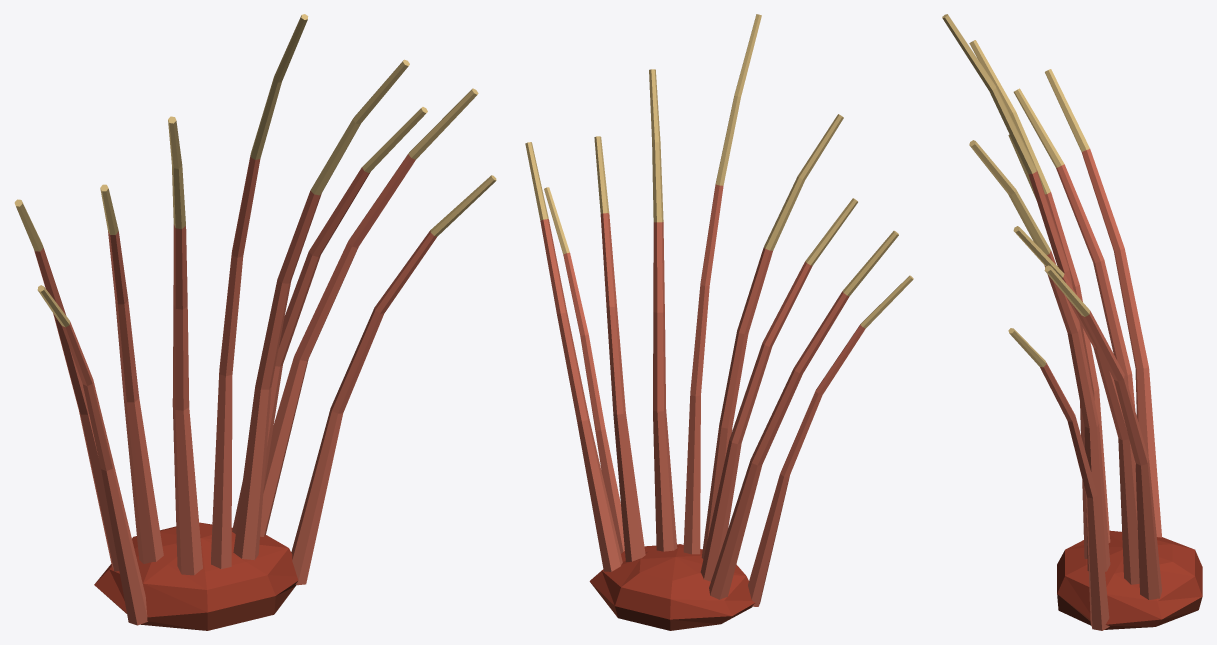
Rendered from sea-whip-e56668.glb.
3 views of the same model, side by side, from view 1: azimuth 30°, elevation 25°; view 2: azimuth 150°, elevation 25°; view 3: azimuth 270°, elevation 25° (orthographic). The views are drawn at different scales.
Visible parts, largest first — view 1: whip-mesh, holdfast; view 2: whip-mesh, holdfast; view 3: whip-mesh, holdfast.
Boxes of the visible parts, box(x1,y1,x2,y2) form: whip-mesh: box(14, 14, 496, 625); holdfast: box(94, 522, 298, 630); whip-mesh: box(525, 14, 913, 606); holdfast: box(589, 544, 755, 630); whip-mesh: box(942, 14, 1161, 630); holdfast: box(1057, 530, 1202, 629).
Bounding box in the file's own units: 1.19 × 1.6 × 0.6501.
